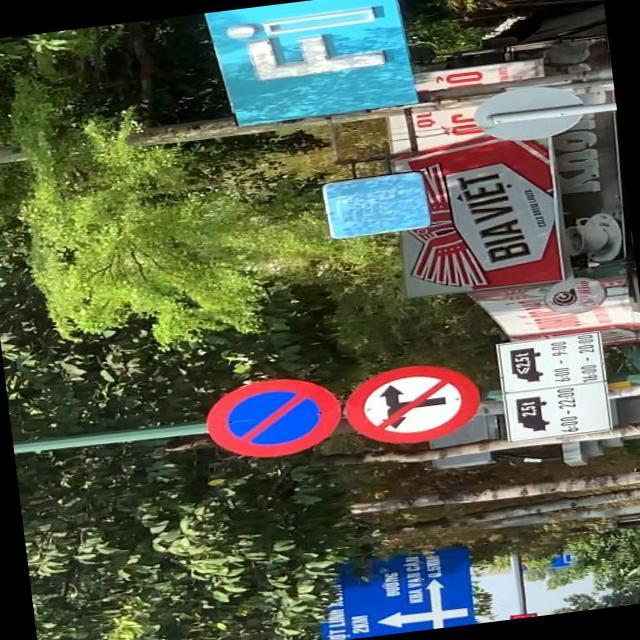P-131a: (202, 370, 348, 462)
